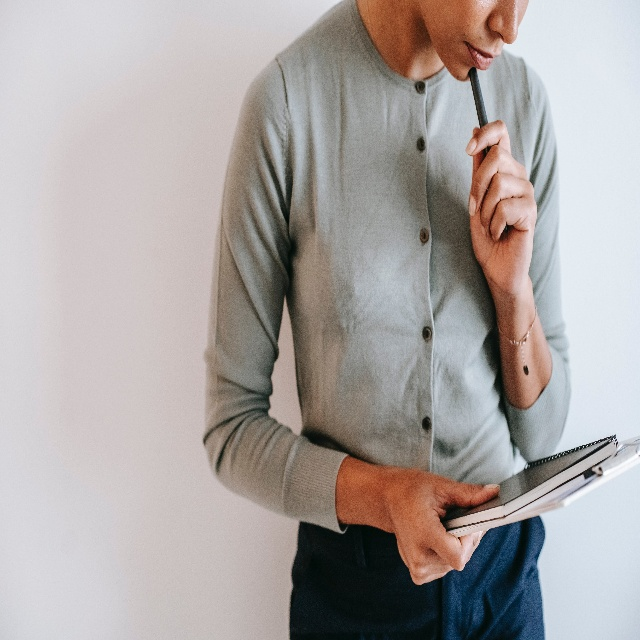Sin_guantes: (389, 461, 500, 586), (468, 120, 537, 296)
